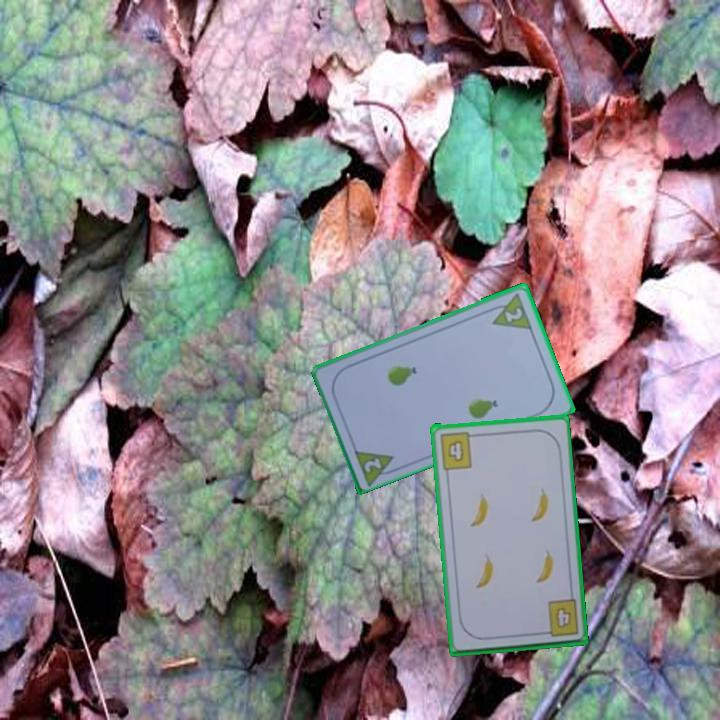2p: (484, 289, 535, 332), (360, 454, 385, 475)
4b: (436, 428, 479, 472), (552, 603, 574, 631)
